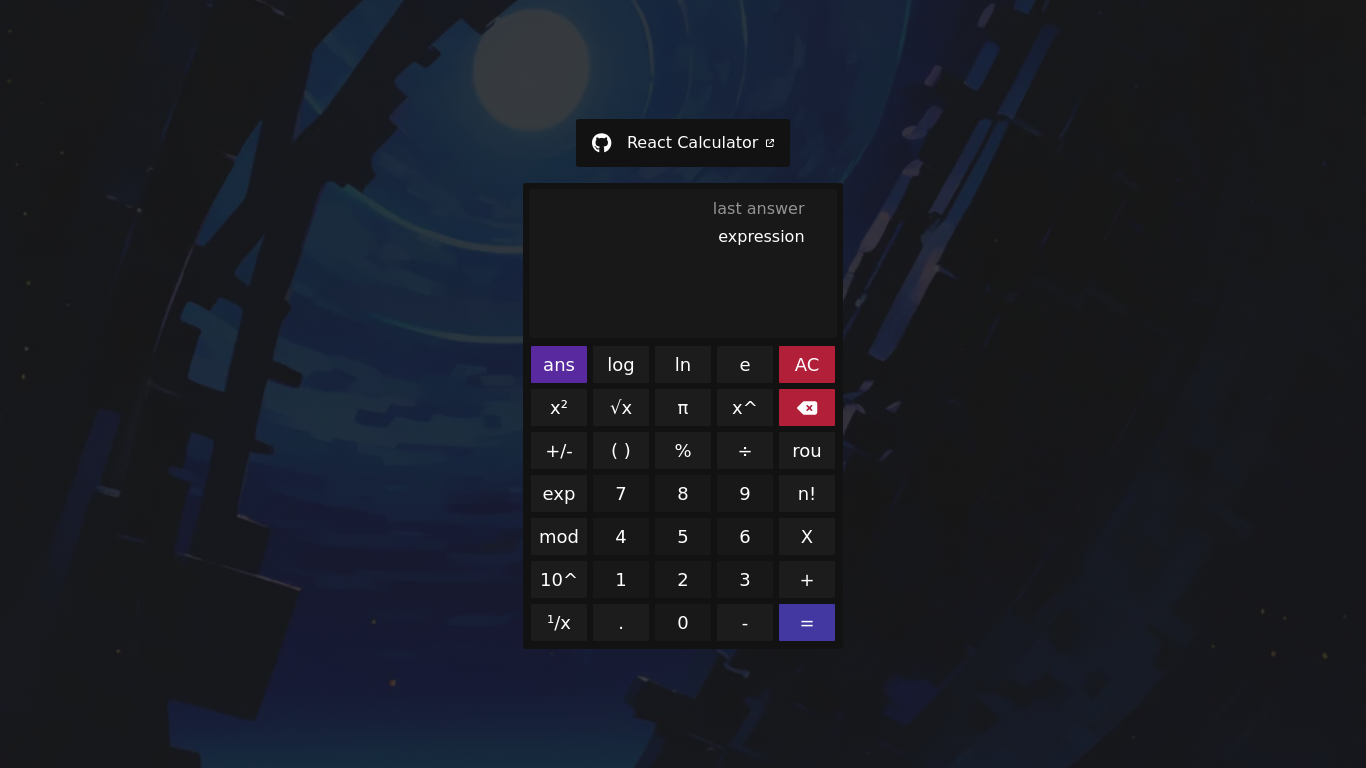
it: Basic operations tests › Multiplication: 4 x 3
Click the button "4": {"x": 621, "y": 537} [591,516,651,557]
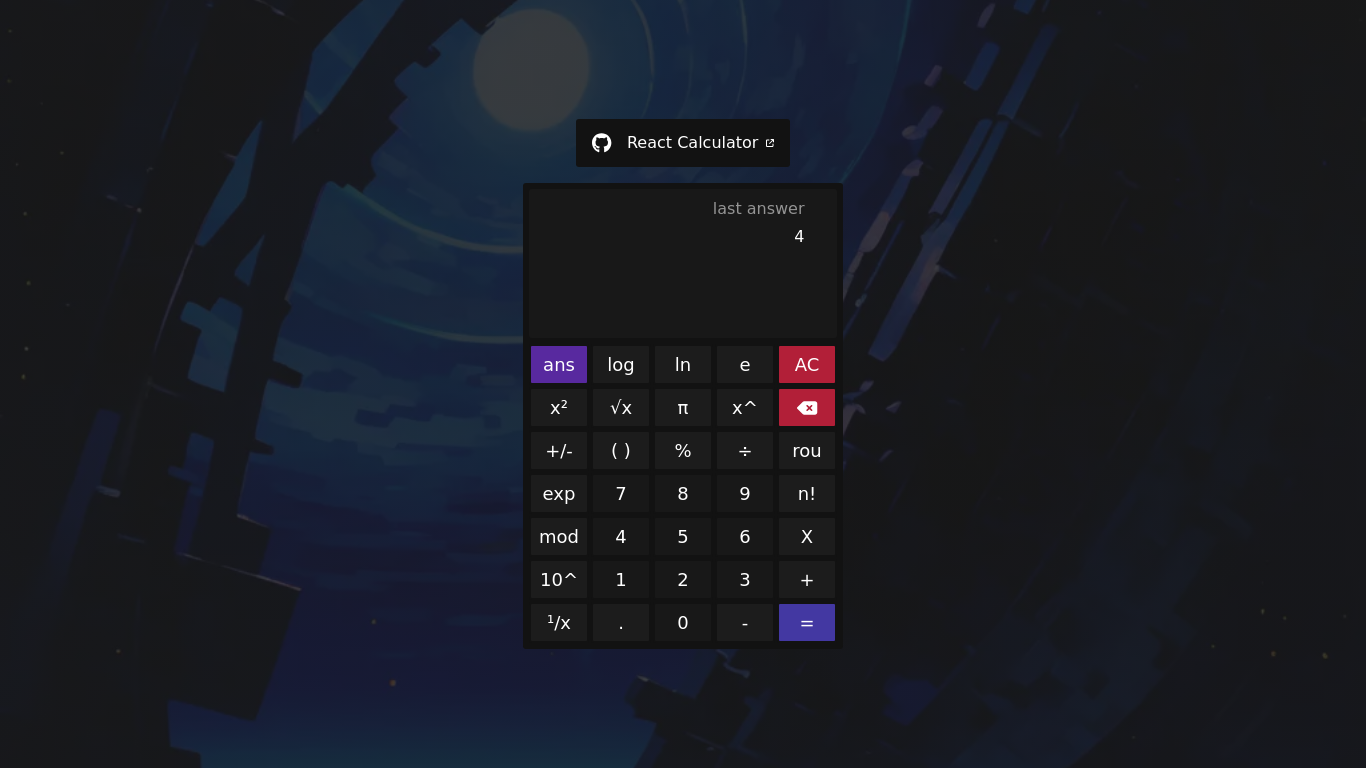
Click the button "X": {"x": 807, "y": 537} [777,516,837,557]
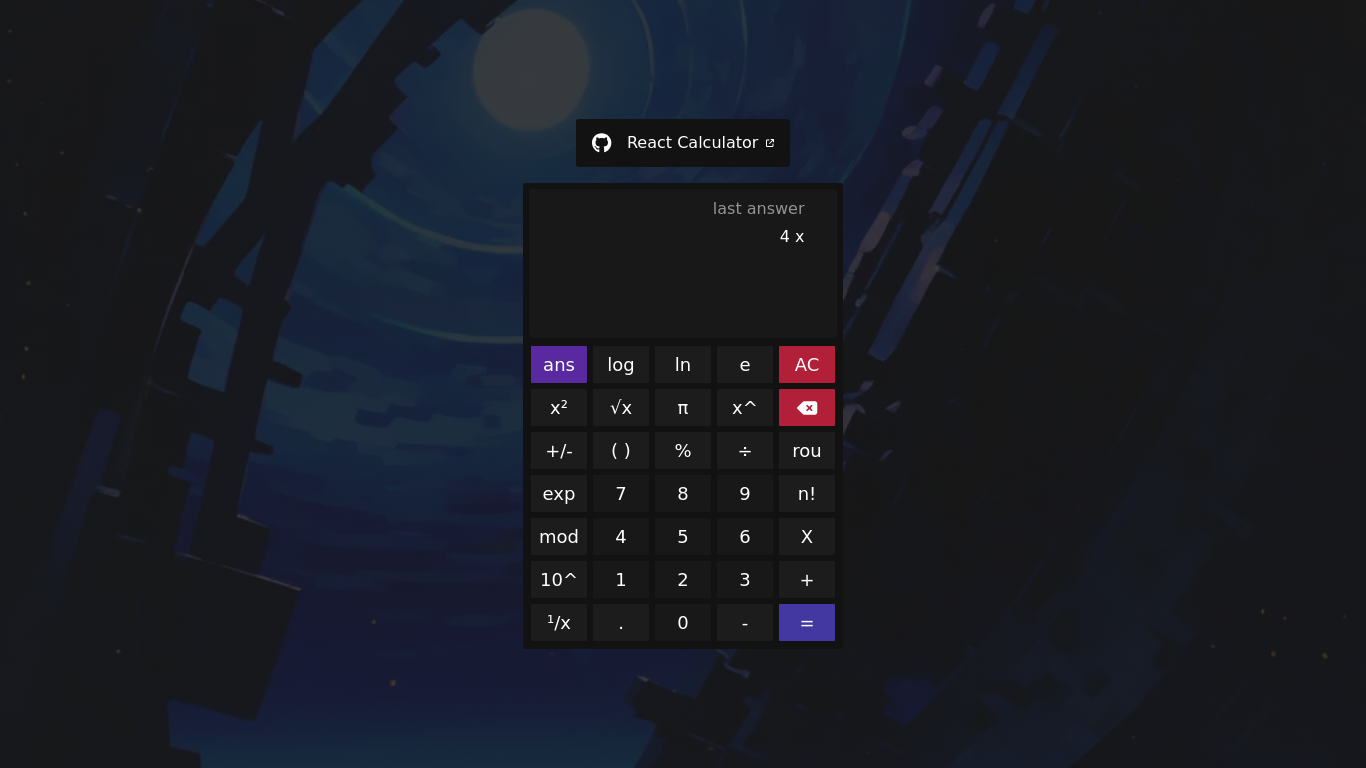
Click the button "3": {"x": 745, "y": 580} [715,559,775,600]
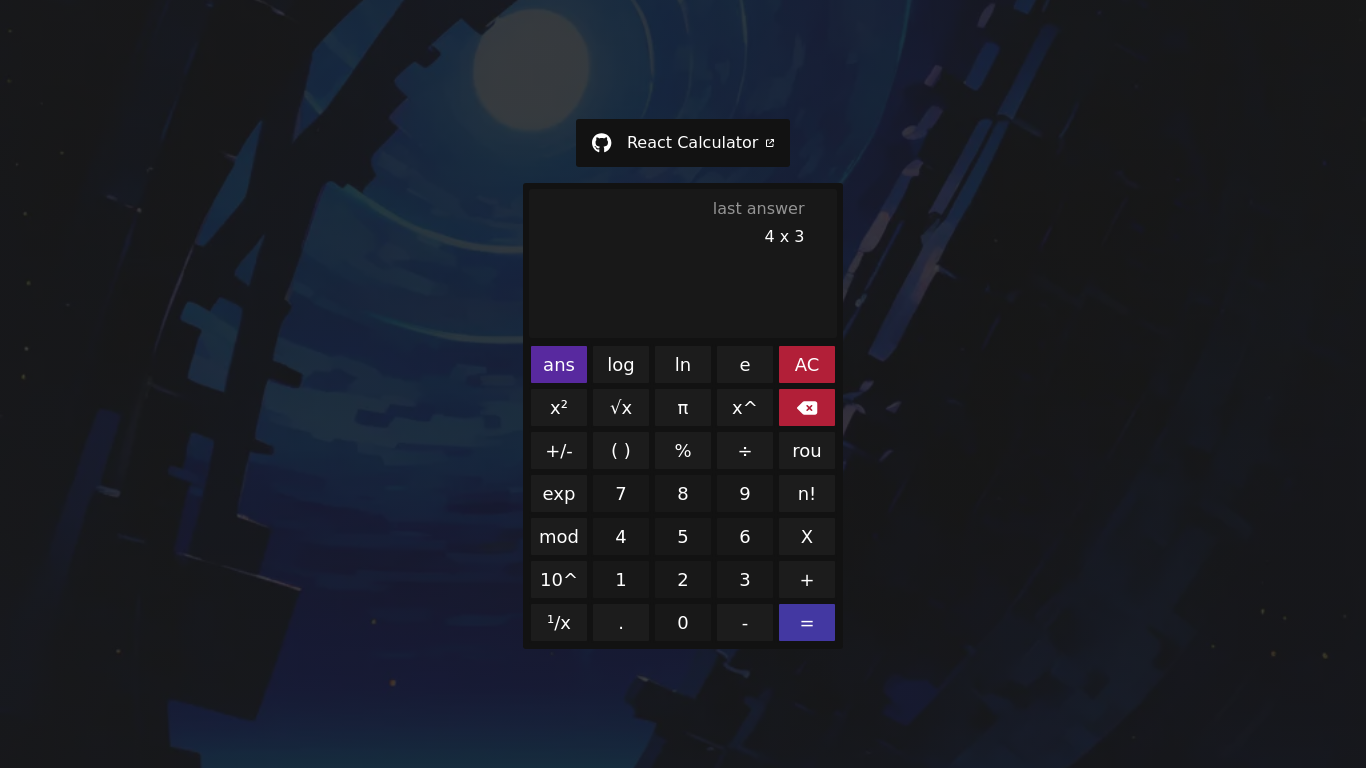
Click the button "=": {"x": 807, "y": 623} [777,602,837,643]
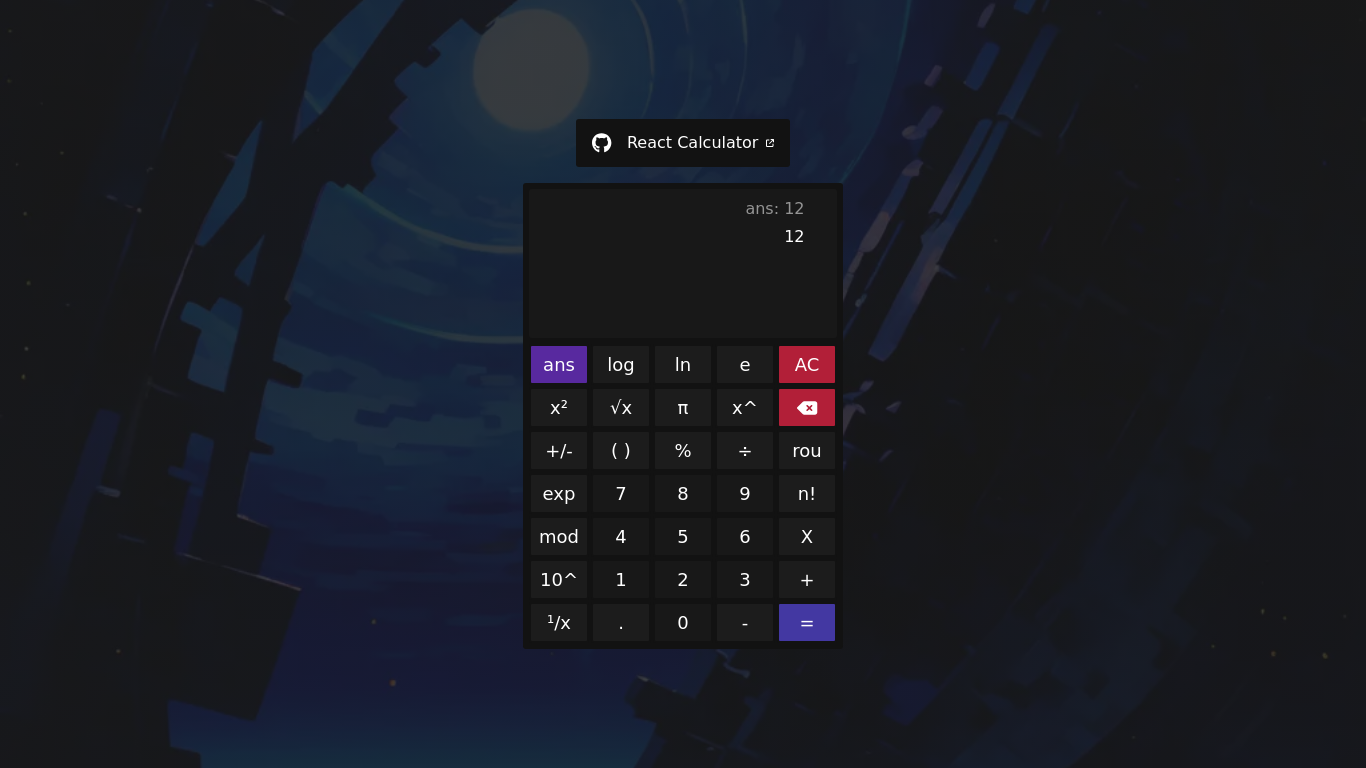
Expected: the text with test id "expression" reads "12", [784,227,805,246]
